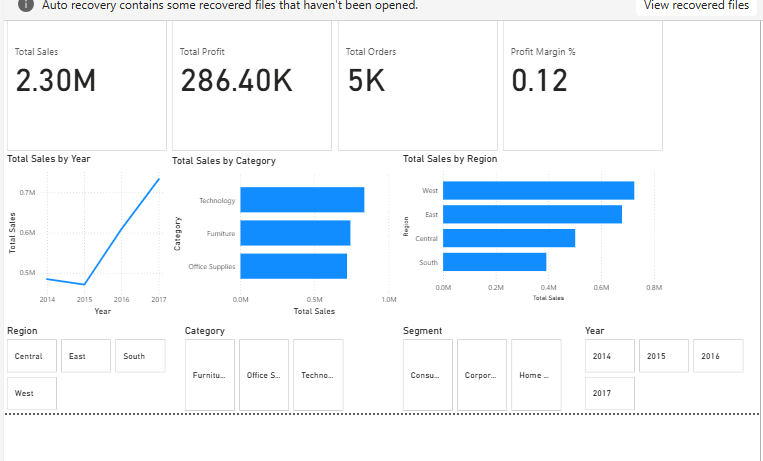

The page's visual inventory and layout, read from the dashboard file:
{"tool":"powerbi","page":{"name":"Page 1","canvas":[1280,720],"ordinal":0},"visuals":[{"type":"cardVisual","fields":{"Data":["SampleSuperstore.Total Sales"]},"box":[0,0,280,280],"z":0},{"type":"cardVisual","fields":{"Data":["SampleSuperstore.Total Profit"]},"box":[279.9,0,280,280],"z":1000},{"type":"cardVisual","fields":{"Data":["SampleSuperstore.Total Orders"]},"box":[559.9,0,280,280],"z":2000},{"type":"cardVisual","fields":{"Data":["SampleSuperstore.Profit Margin %"]},"box":[839.8,0,280,280],"z":3000},{"type":"lineChart","fields":{"Category":["SampleSuperstore.Order Date.Variation.Date Hierarchy.Year","SampleSuperstore.Order Date.Variation.Date Hierarchy.Quarter","SampleSuperstore.Order Date.Variation.Date Hierarchy.Month","SampleSuperstore.Order Date.Variation.Date Hierarchy.Day"],"Y":["SampleSuperstore.Total Sales"]},"box":[0,279.9,280,280],"z":4000},{"type":"barChart","fields":{"Y":["SampleSuperstore.Total Sales"],"Category":["SampleSuperstore.Category"]},"box":[279.9,283.5,390.9,276.4],"z":5000},{"type":"barChart","fields":{"Category":["SampleSuperstore.Region"],"Y":["SampleSuperstore.Total Sales"]},"box":[670.8,279.9,449,255.3],"z":6000},{"type":"advancedSlicerVisual","fields":{"Values":["SampleSuperstore.Region"]},"box":[0,570,280,150],"z":7000},{"type":"advancedSlicerVisual","fields":{"Values":["SampleSuperstore.Category"]},"box":[301.1,570.5,280,150],"z":8000},{"type":"advancedSlicerVisual","fields":{"Values":["SampleSuperstore.Segment"]},"box":[670.8,570.5,280,150],"z":9000},{"type":"advancedSlicerVisual","fields":{"Values":["SampleSuperstore.Year"]},"box":[978.9,570.5,280,150],"z":10000}]}

Visuals, with their boxes on the page's 1280x720 design canvas (x1, y1, x2, y2). These are canvas units, not pixel positions in the 763x461 screenshot, which may show the page scaled, cropped or inside an application window:
cardVisual - SampleSuperstore.Total Sales: Rect(0, 0, 280, 280)
cardVisual - SampleSuperstore.Total Profit: Rect(280, 0, 560, 280)
cardVisual - SampleSuperstore.Total Orders: Rect(560, 0, 840, 280)
cardVisual - SampleSuperstore.Profit Margin %: Rect(840, 0, 1120, 280)
lineChart - SampleSuperstore.Order Date.Variation.Date Hierarchy.Year x SampleSuperstore.Order Date.Variation.Date Hierarchy.Quarter: Rect(0, 280, 280, 560)
barChart - SampleSuperstore.Total Sales x SampleSuperstore.Category: Rect(280, 284, 671, 560)
barChart - SampleSuperstore.Region x SampleSuperstore.Total Sales: Rect(671, 280, 1120, 535)
advancedSlicerVisual - SampleSuperstore.Region: Rect(0, 570, 280, 720)
advancedSlicerVisual - SampleSuperstore.Category: Rect(301, 570, 581, 720)
advancedSlicerVisual - SampleSuperstore.Segment: Rect(671, 570, 951, 720)
advancedSlicerVisual - SampleSuperstore.Year: Rect(979, 570, 1259, 720)
